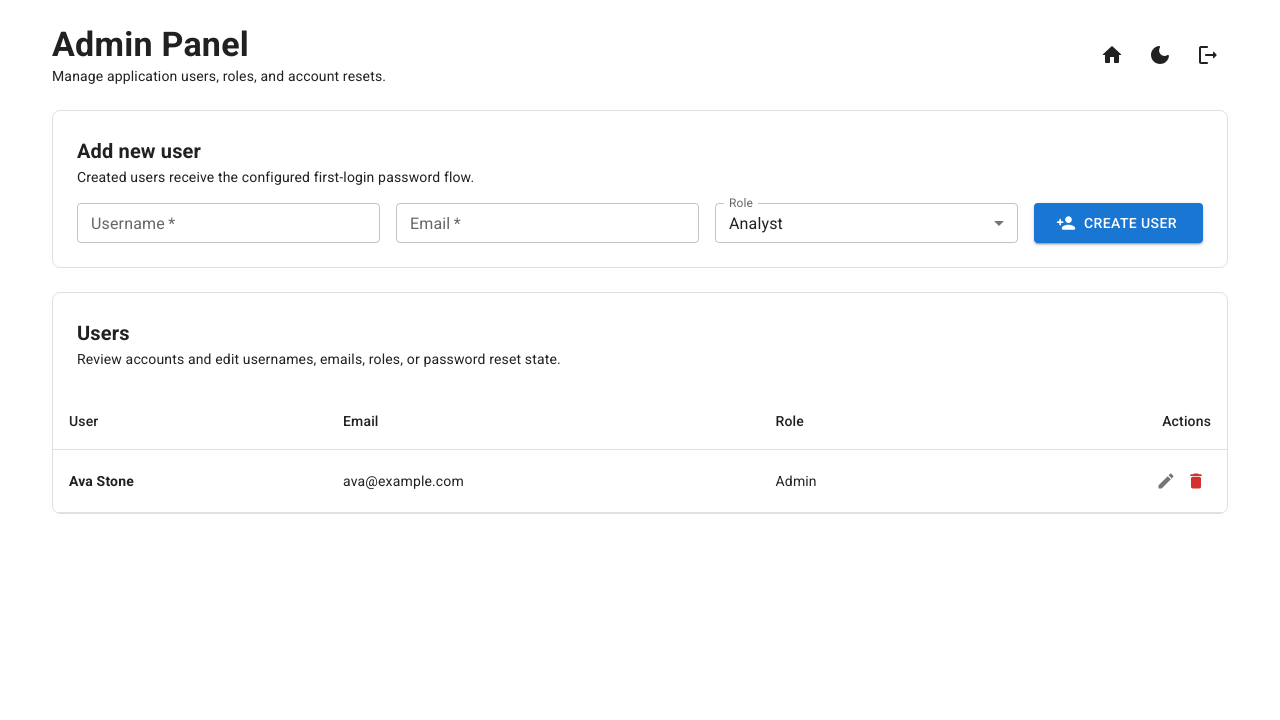
Test case: <AdminPanelPage /> › renders users and creates a new user
This screenshot has width=1280, height=720.
Expected: the text "ava@example.com" is shown, [327,450,760,512]
Expected: the dropdown "Analyst" is shown, [729,214,783,232]
Step 1. Type "Mira Vale" into the field labelled "Username *" → x=228, y=223, box [77,203,380,243]
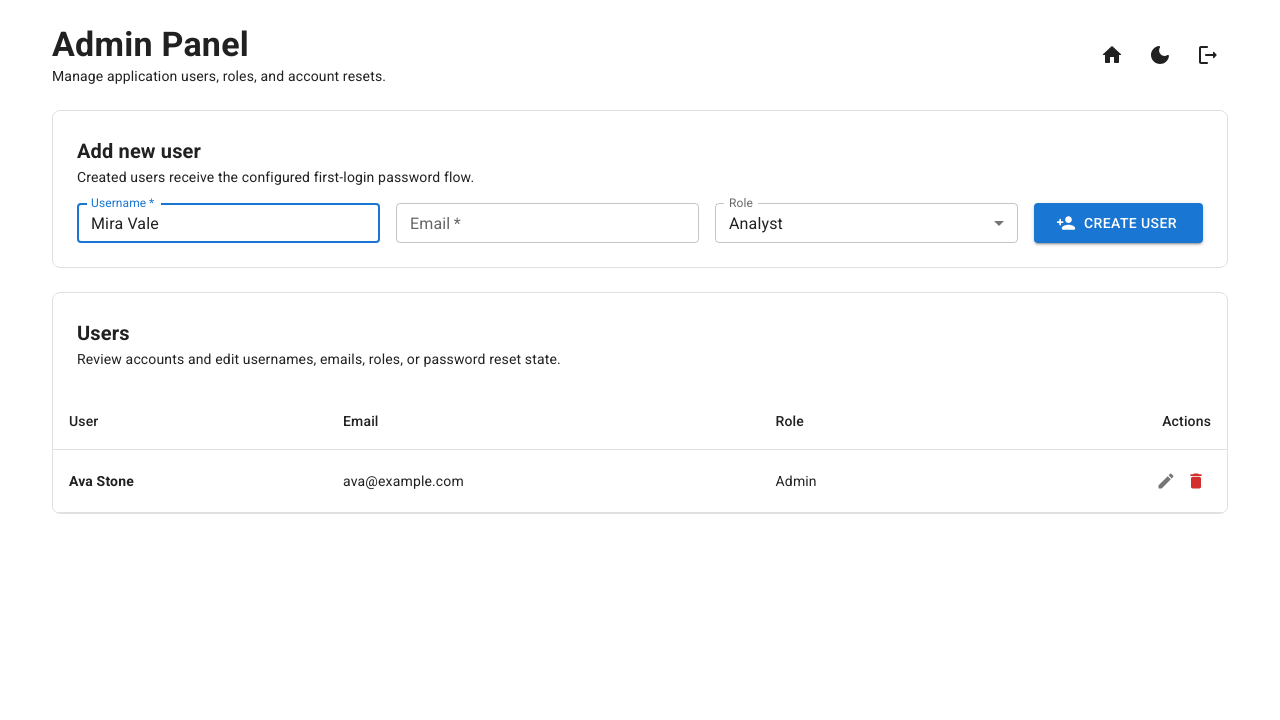
Step 2. Type "mira@example.com" into the field labelled "Email *" → x=548, y=223, box [396,203,699,243]
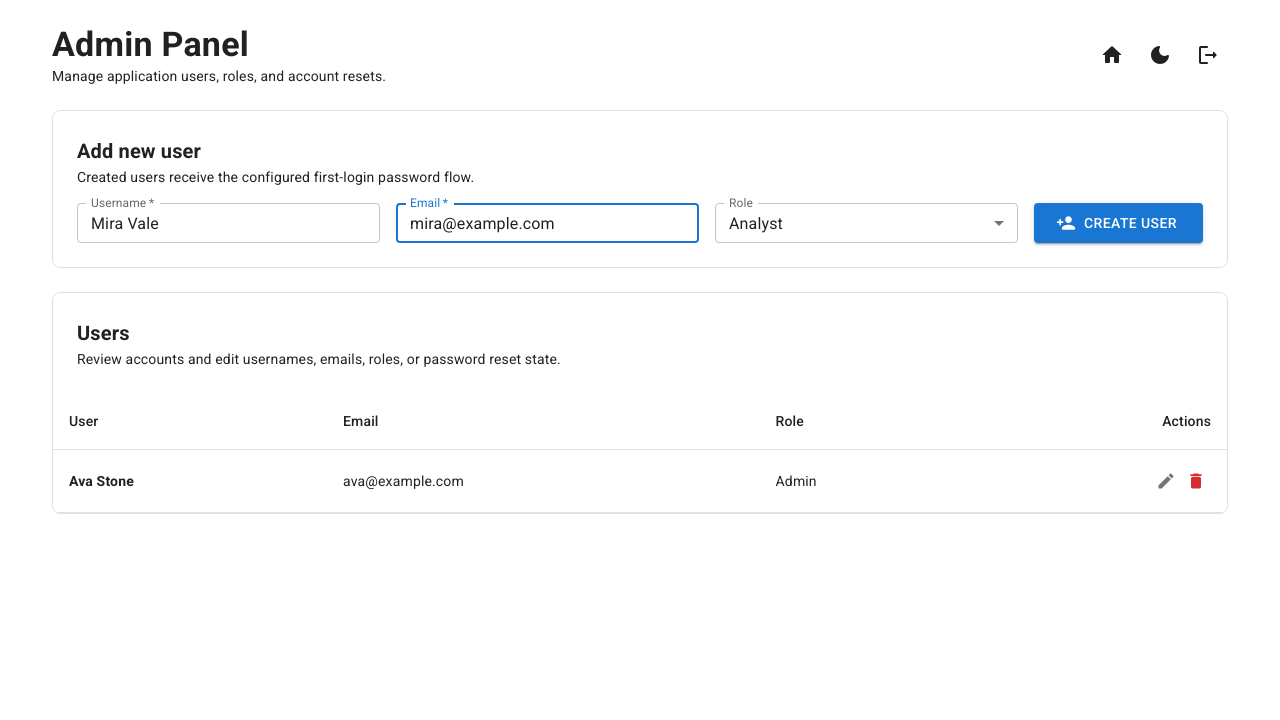
Step 3. Click the button "Create user" → x=1118, y=223, box [1034,203,1203,243]
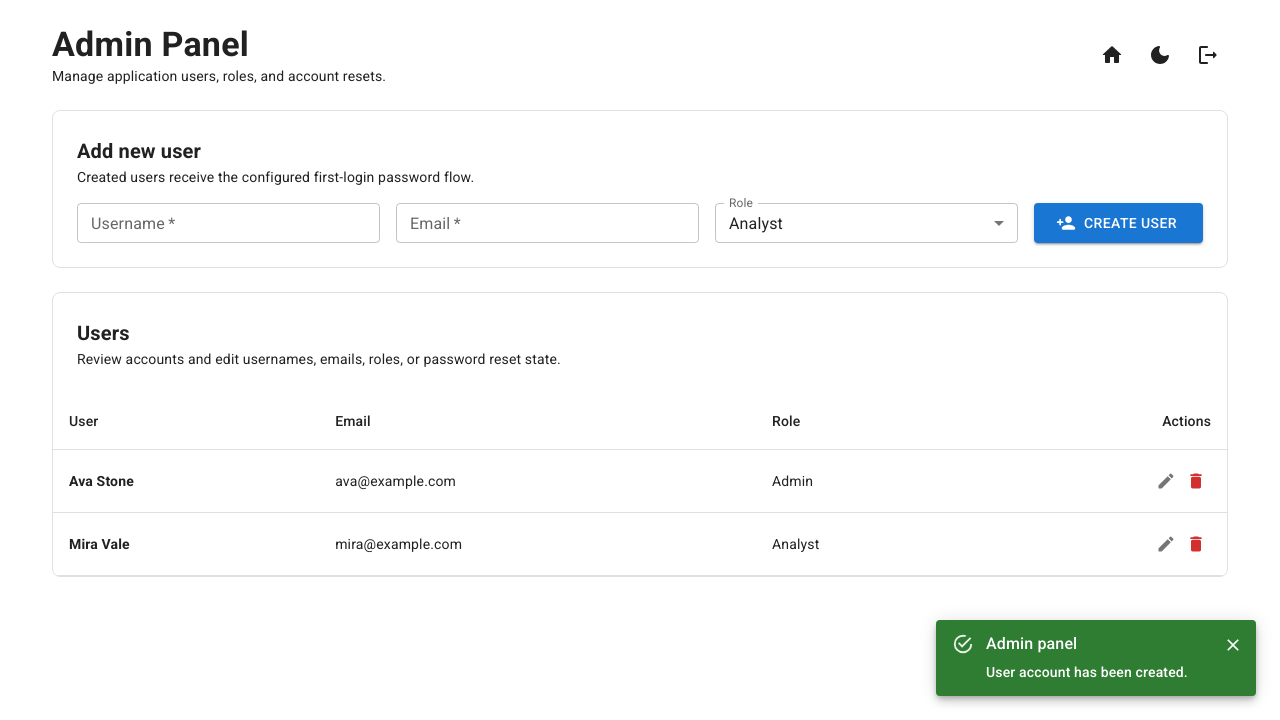
Expected: the text "mira@example.com" is shown, [319,512,756,576]
Expected: the text "Analyst" is shown, [756,512,974,576]
